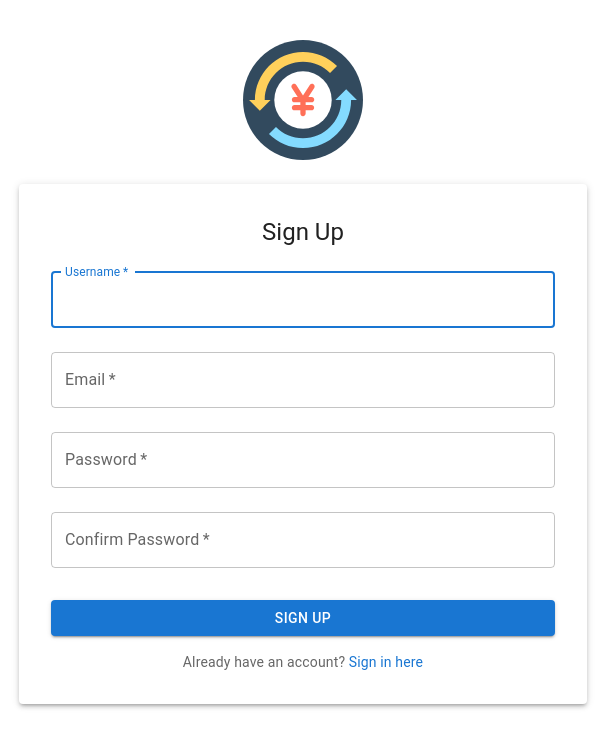
Test: RegisterPage › shows validation error for invalid email
Type "testuser" into the field labelled "Username *" at coordinates (303, 300), box [51,272,555,328]
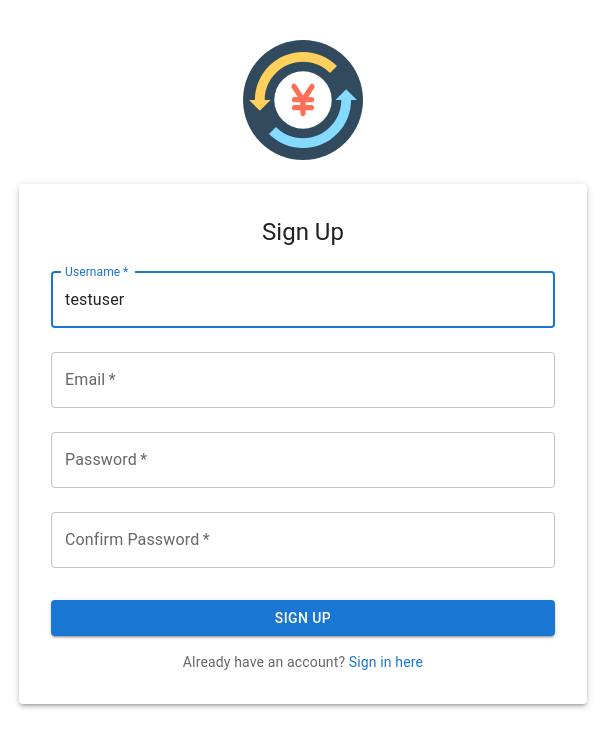
Type "notanemail" into the field labelled "Email *" at coordinates (303, 380), box [51,352,555,408]
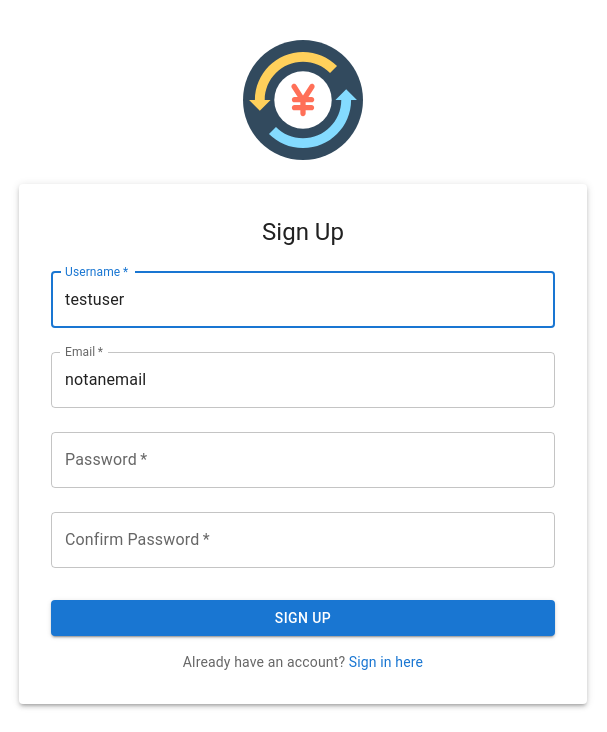
Click the button "Sign Up" at coordinates (303, 618), box [51,600,555,636]
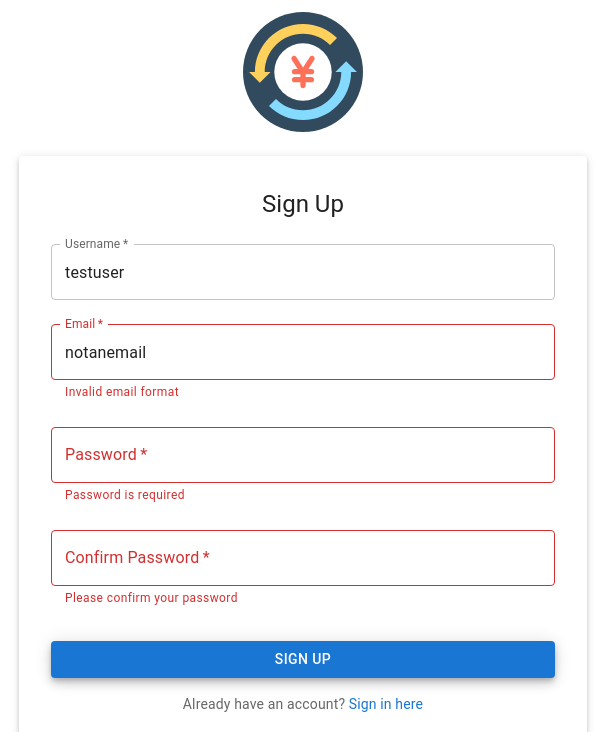
Now the text "Invalid email format" is shown, box [65,385,179,399]
